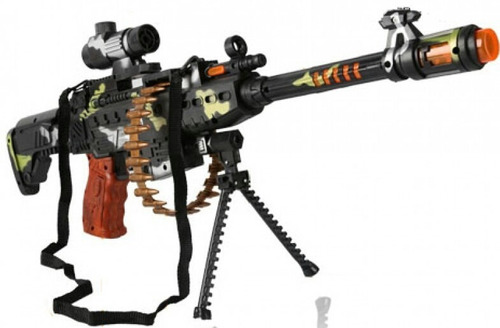Arma Falsa: (4, 6, 499, 319)
